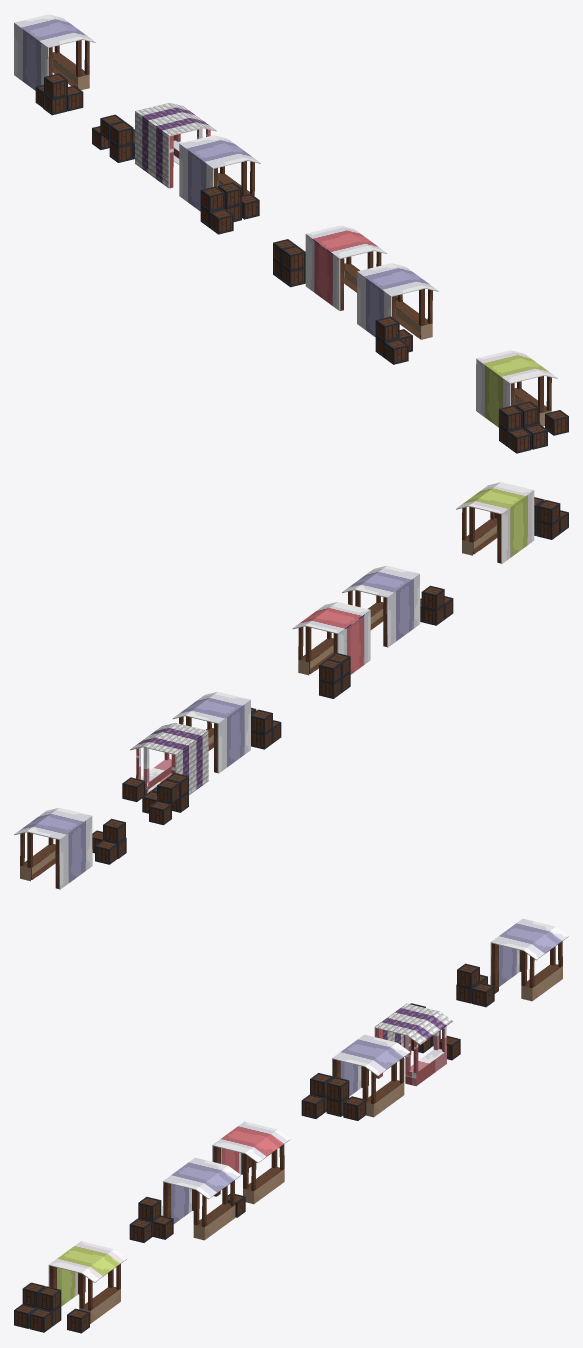
Rendered from Market all.fbx.
The picture shows the model from 3 angles, top to bottom: view 1: azimuth 30°, elevation 25°; view 2: azimuth 150°, elevation 25°; view 3: azimuth 330°, elevation 25°; orthographic projection. The views are drawn at different scales.
Visible parts, largest first — view 1: Cube.022; view 2: Cube.022; view 3: Cube.022.
Part boxes in pixels (x1,y1,x2,y2): Cube.022: (14,14,568,453); Cube.022: (14,482,568,889); Cube.022: (14,918,568,1333).
Bounding box in the file's own units: 119 × 95.87 × 1651.
Materials: 77 (77 with a texture image).
